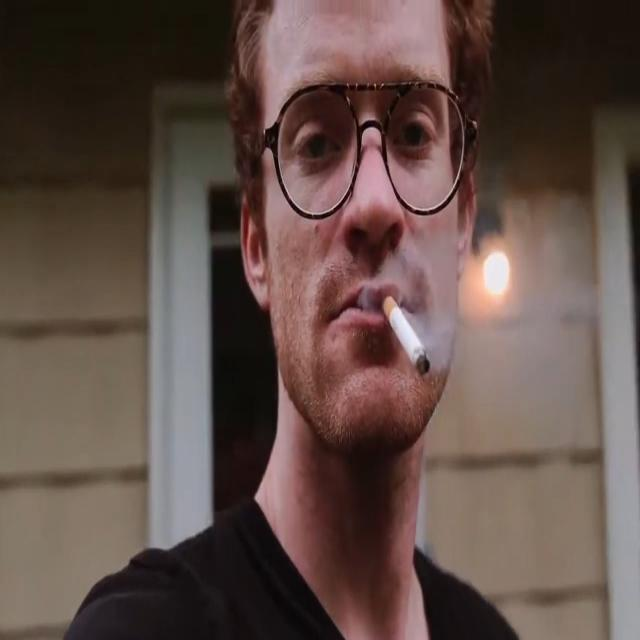Курение: (378, 290, 432, 382)
